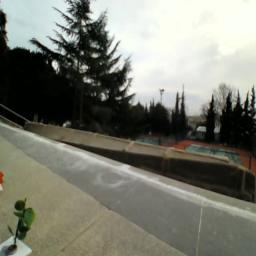herb: (8, 198, 36, 245)
